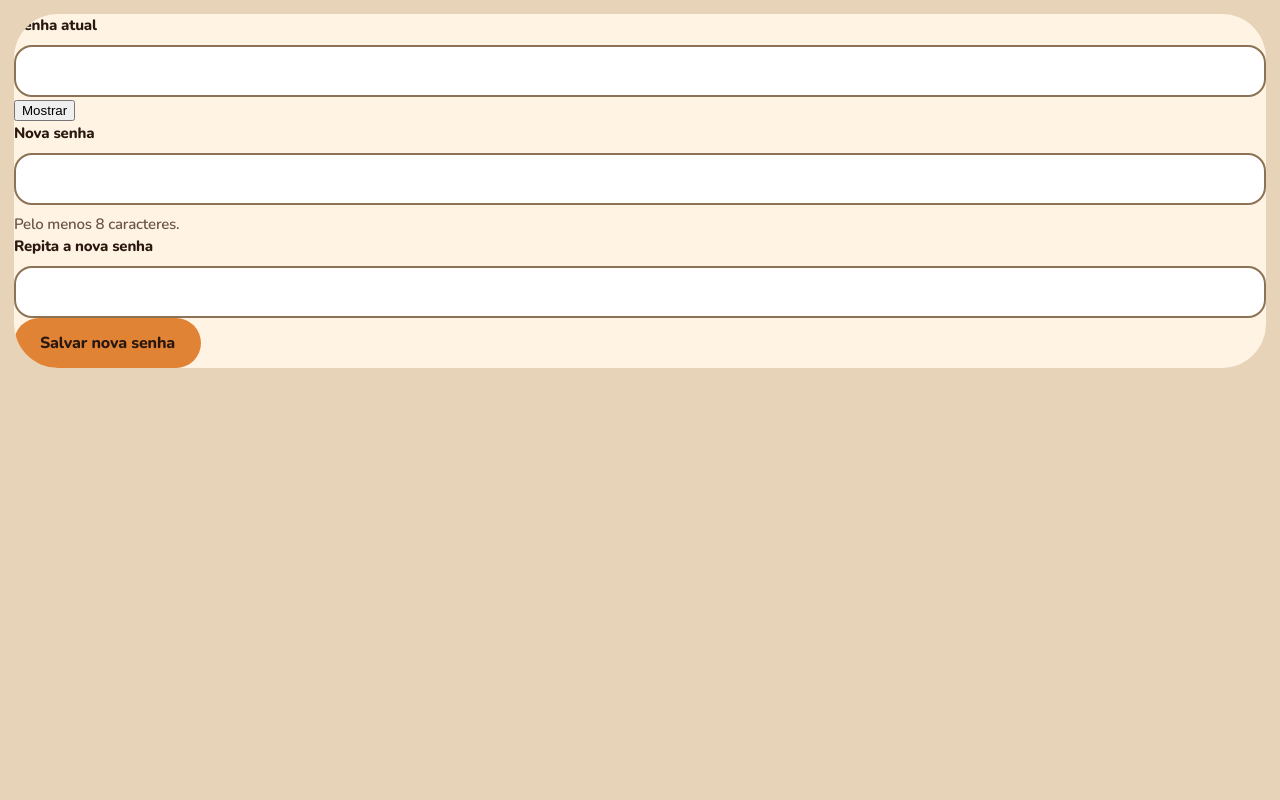
Test: TrocarSenha › senha atual errada: aviso e foco no campo
In the password field labelled "Senha atual": [640, 70] box [14, 44, 1266, 96], type "errada"
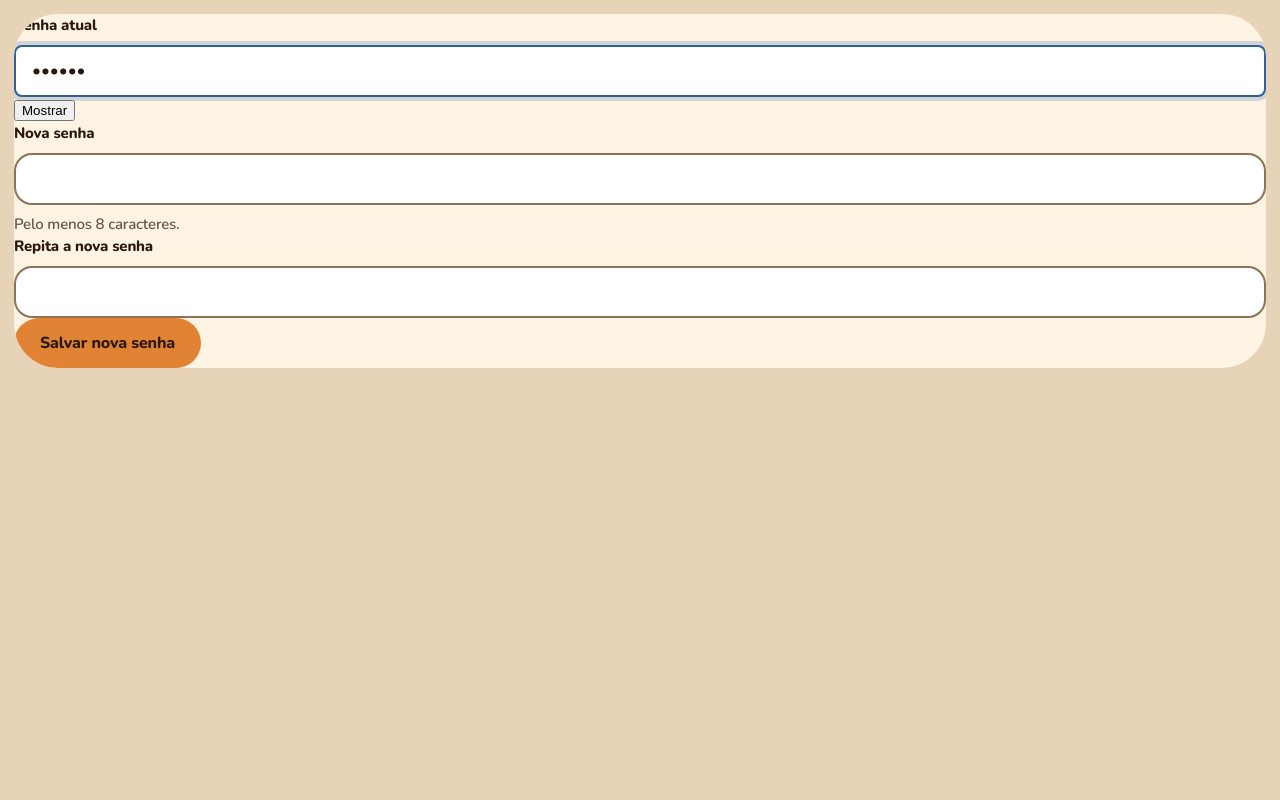
In the password field labelled "Nova senha": [640, 178] box [14, 152, 1266, 204], type "nova-senha-123"
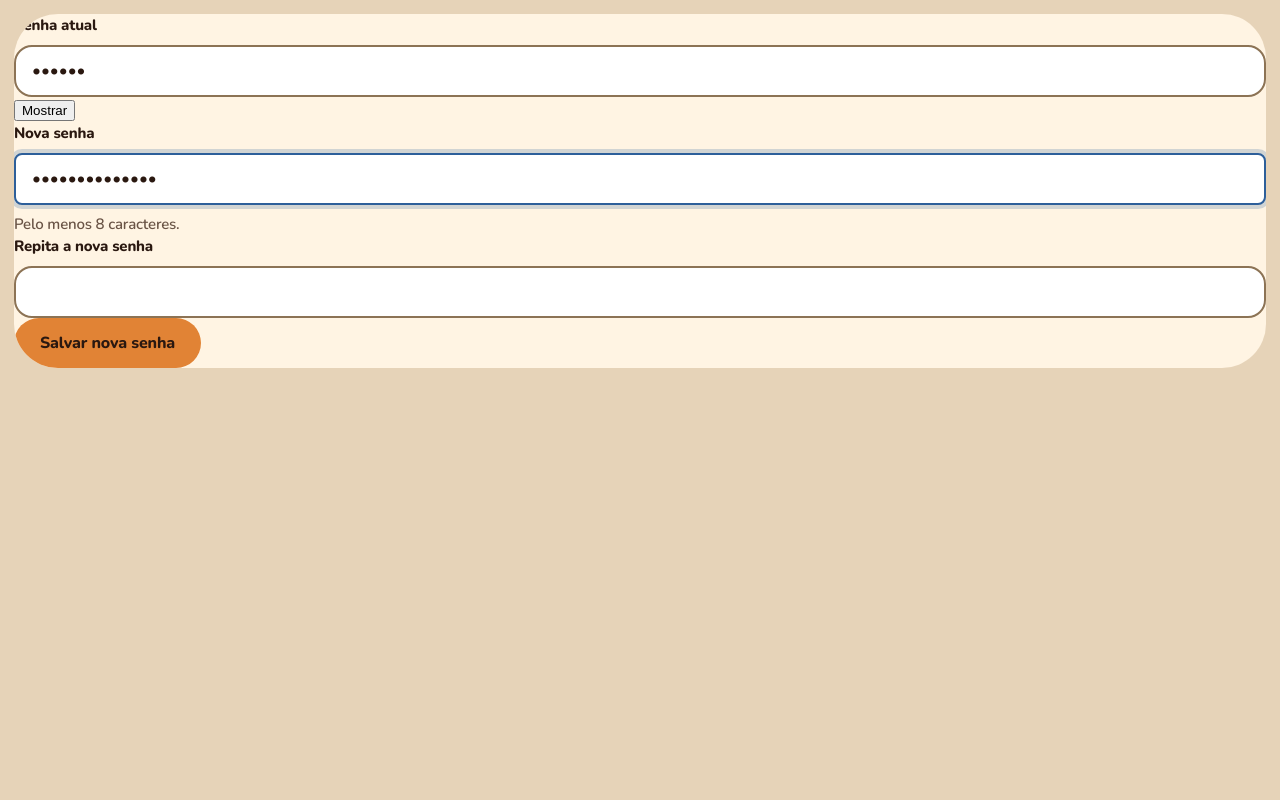
In the password field labelled "Repita a nova senha": [640, 292] box [14, 266, 1266, 318], type "nova-senha-123"
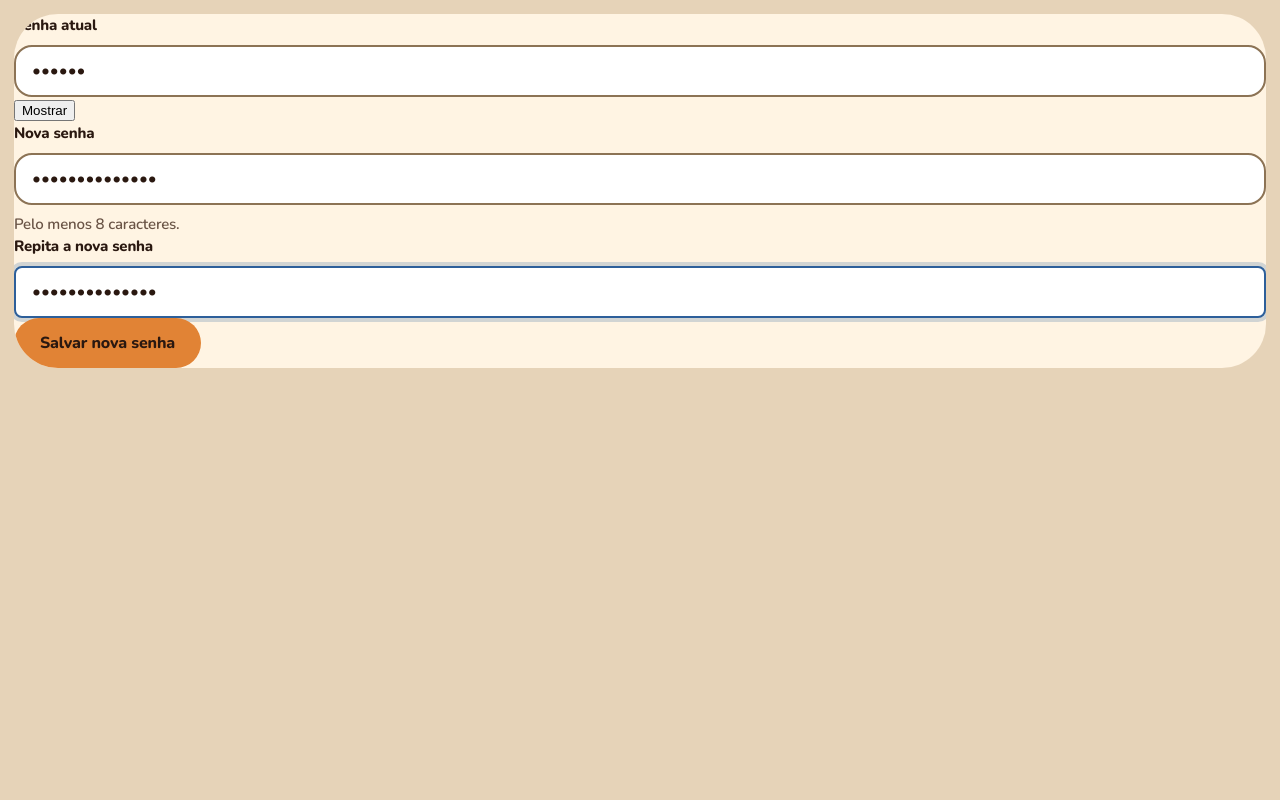
Click the button "Salvar nova senha": [108, 342] box [14, 318, 201, 368]
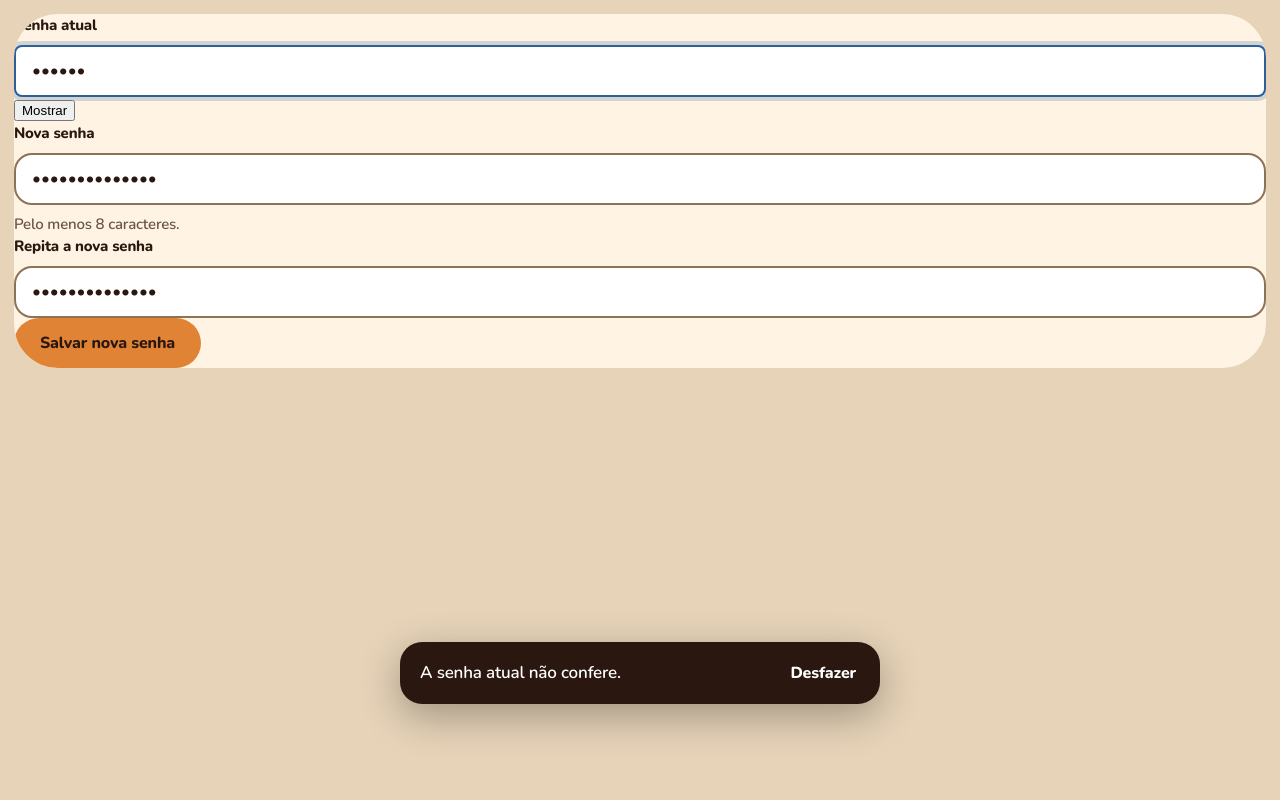
Expected: the text "A senha atual não confere." is shown, [420, 660, 621, 686]
